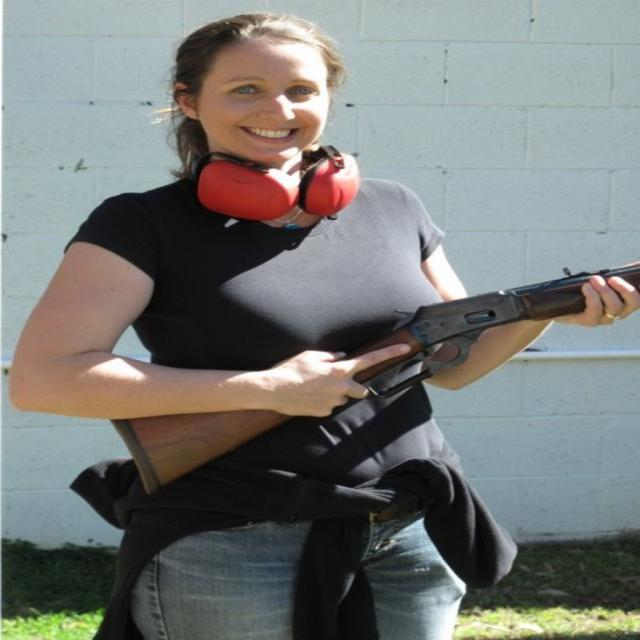weapon: (110, 261, 634, 497)
